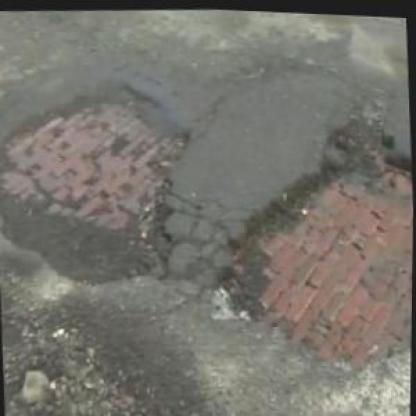pothole: (0, 78, 201, 291)
